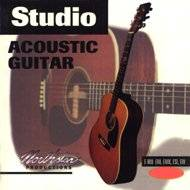guitar: (88, 2, 152, 185)
